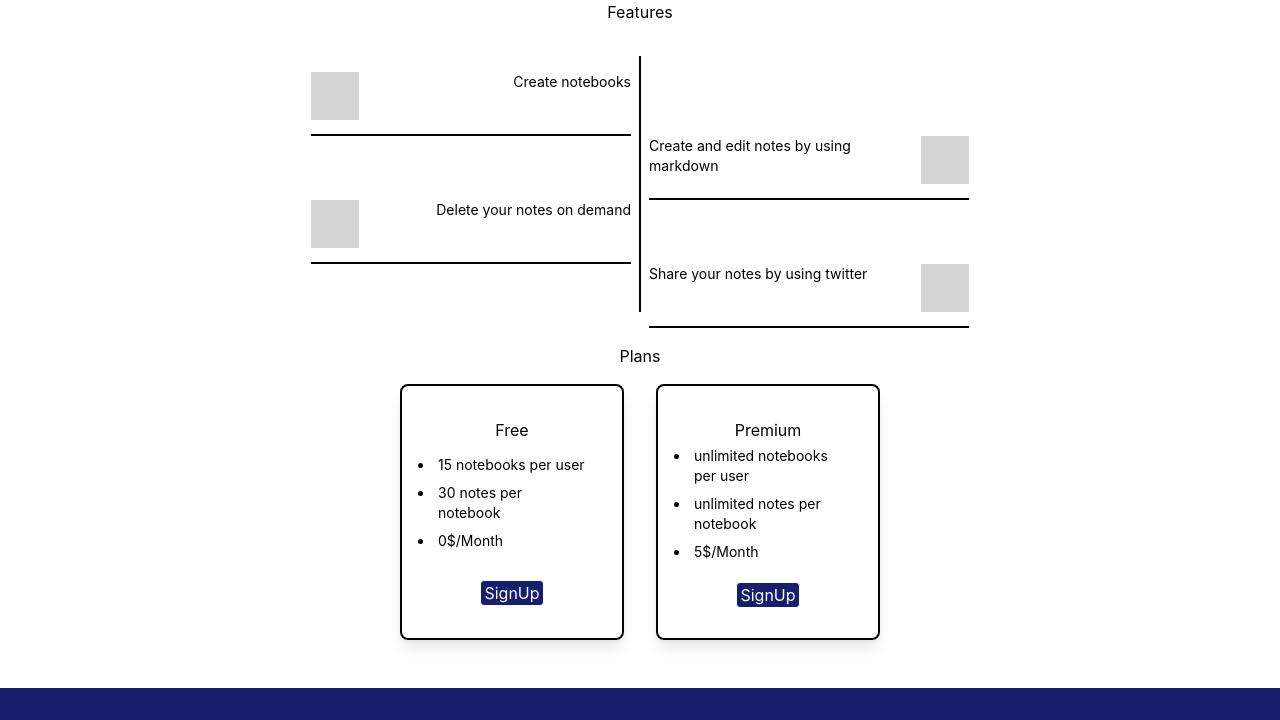
Scenario: Landing page › should navigate to SignUp page
(page scrolled)
Click the link with test id "button-Free" at (512, 593), box [484,583,539,603]
(page scrolled)
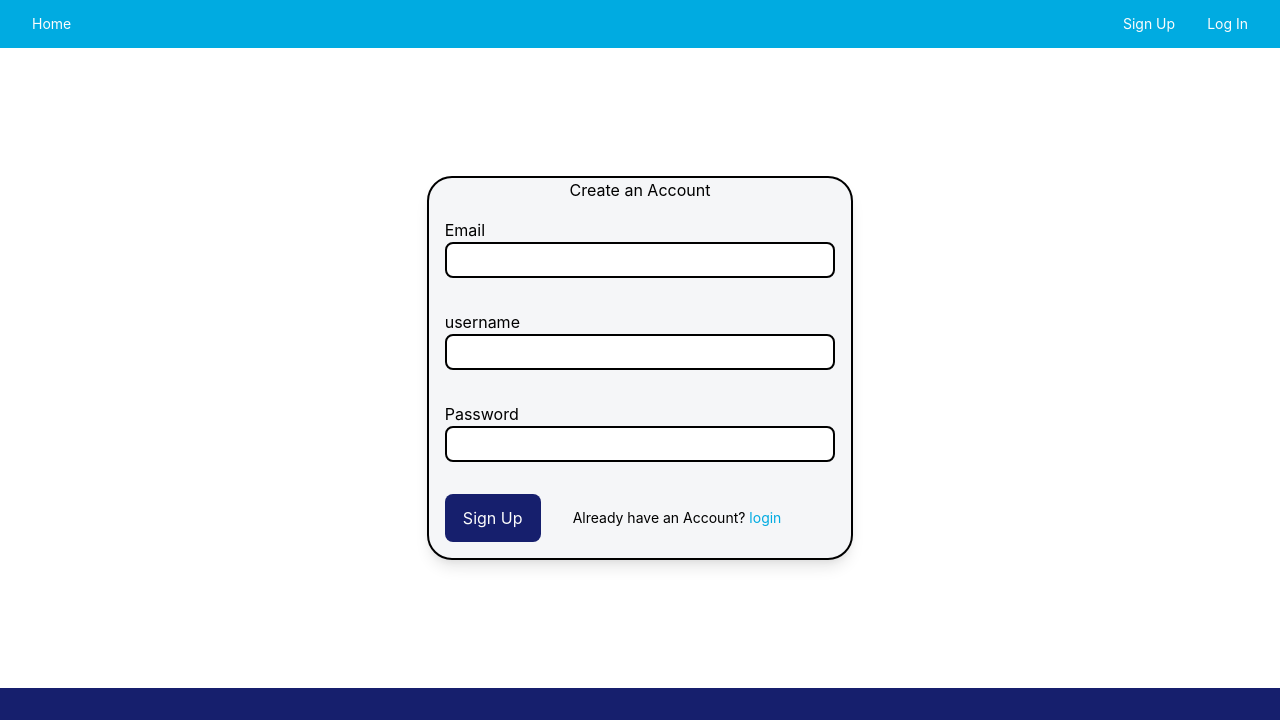
Expected: the heading with test id "title" reads "Create an Account", [570,180,711,200]
